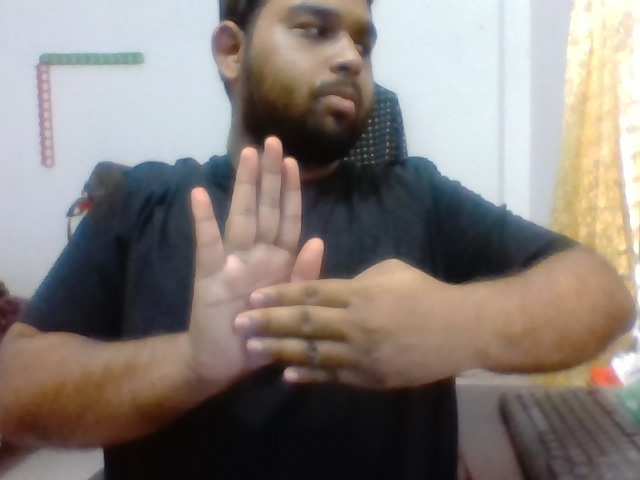H: (177, 129, 475, 408)
